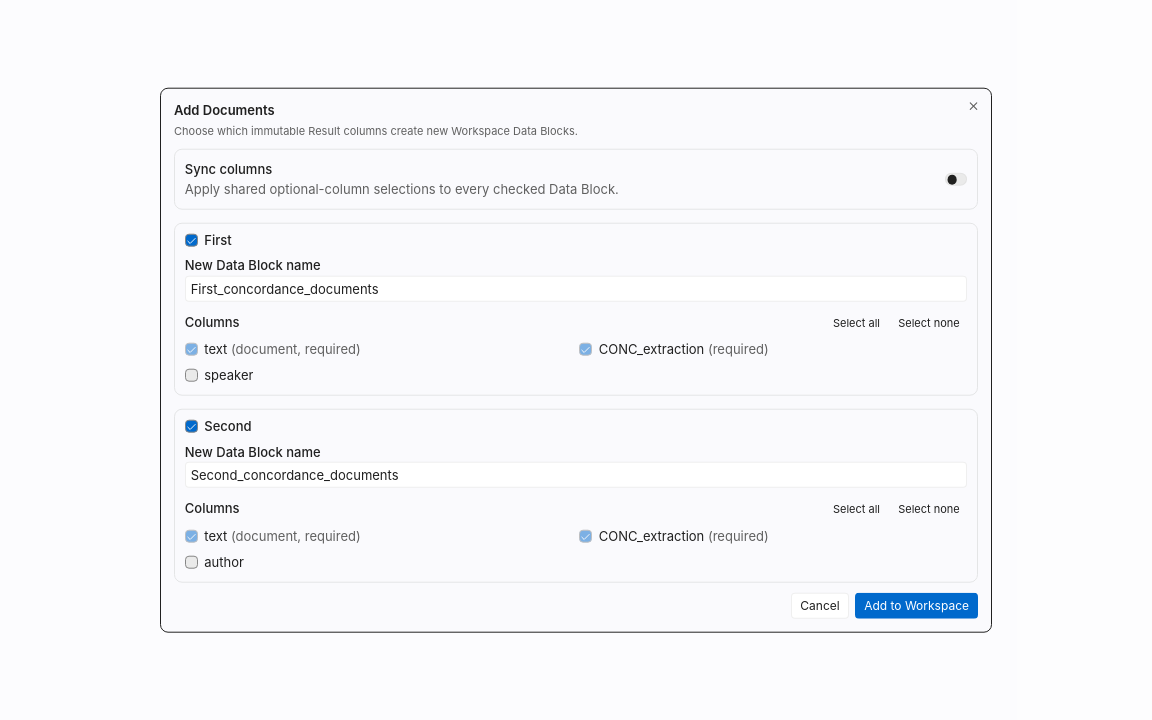
it: ResultAddToWorkspaceDialog › allows an empty document-column intersection while preserving required columns
Click the checkbox named "speaker" next to "speaker" at (191, 376), box [185,369,198,382]
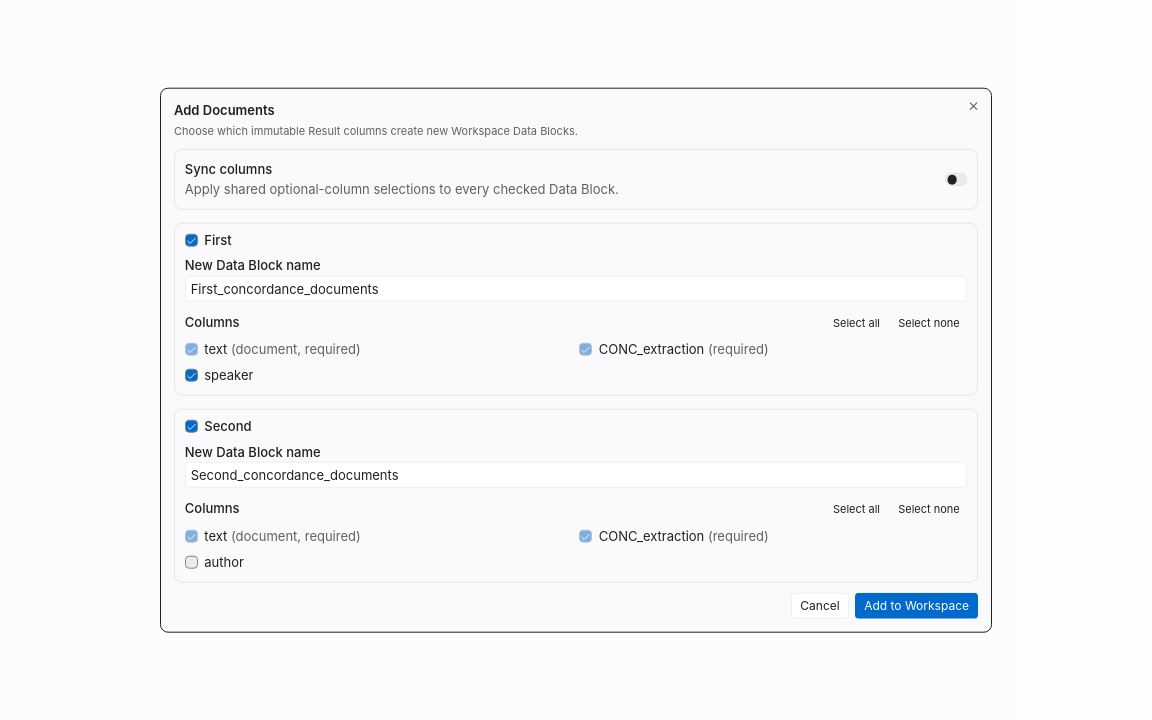
Click the switch named "Sync columns" at (956, 179), box [944,173,967,186]
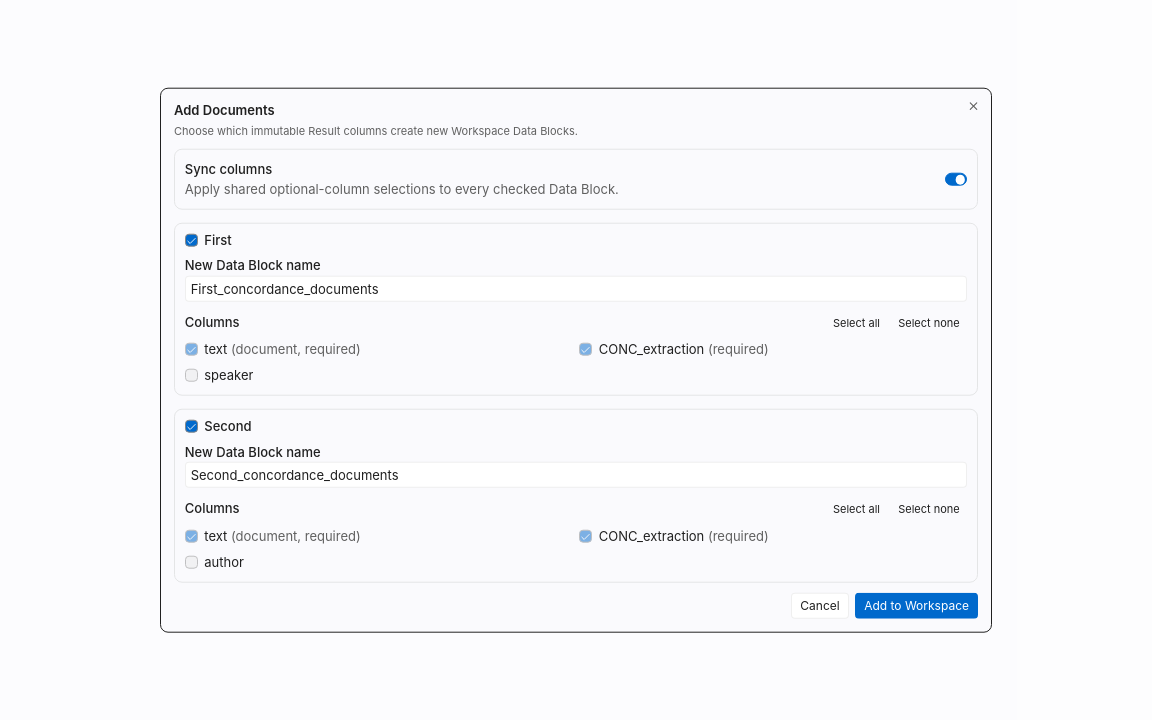
Result: the switch named "Sync columns" is checked at [944,173,967,186]
Result: the checkbox named "speaker" next to "speaker" is not checked at [185,369,198,382]
Result: the checkbox named "speaker" next to "speaker" is disabled at [185,369,198,382]
